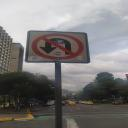NoVirarU: (19, 27, 100, 67)
